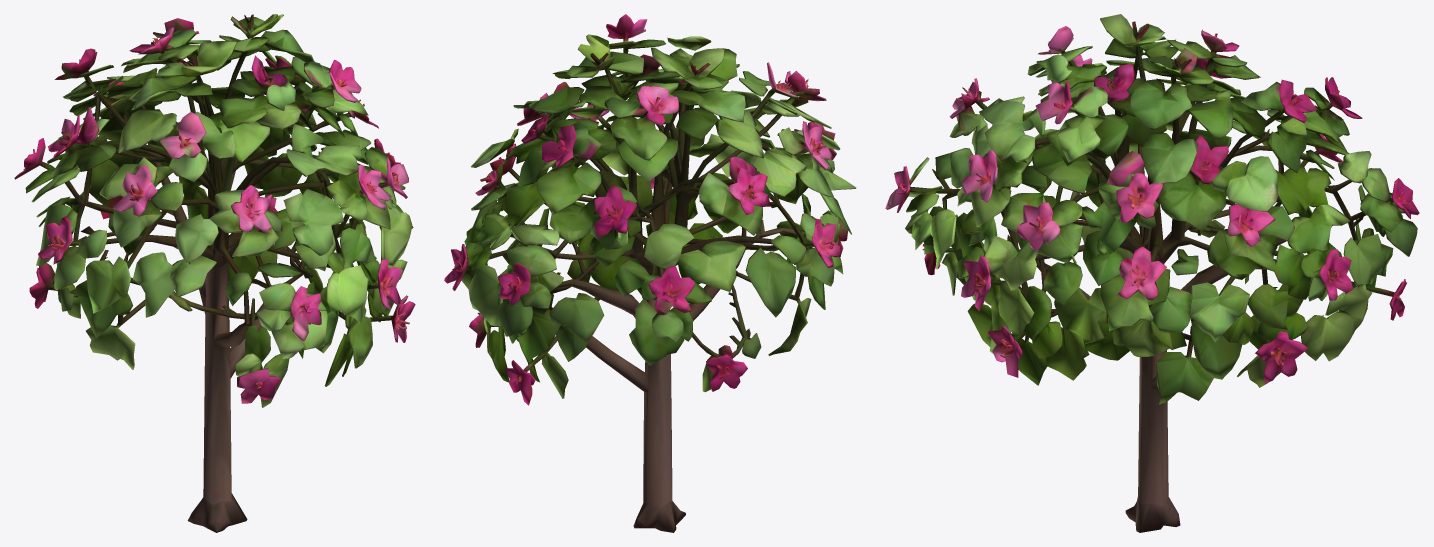
File: bauhinia-near.glb
3 renders of one model, left to right at view 1: azimuth 30°, elevation 25°; view 2: azimuth 150°, elevation 25°; view 3: azimuth 270°, elevation 25°, orthographic. The views are drawn at different scales.
Parts seen in each view (by area): view 1: tripo_node_046fa6ac; view 2: tripo_node_046fa6ac; view 3: tripo_node_046fa6ac.
Part boxes in pixels (x1=…): tripo_node_046fa6ac: x1=14, y1=14, x2=415, y2=532; tripo_node_046fa6ac: x1=444, y1=14, x2=856, y2=532; tripo_node_046fa6ac: x1=885, y1=14, x2=1419, y2=532.
Size of the model in its own units: 6.1 by 8 by 7.87.
1 material, 1 textured.
